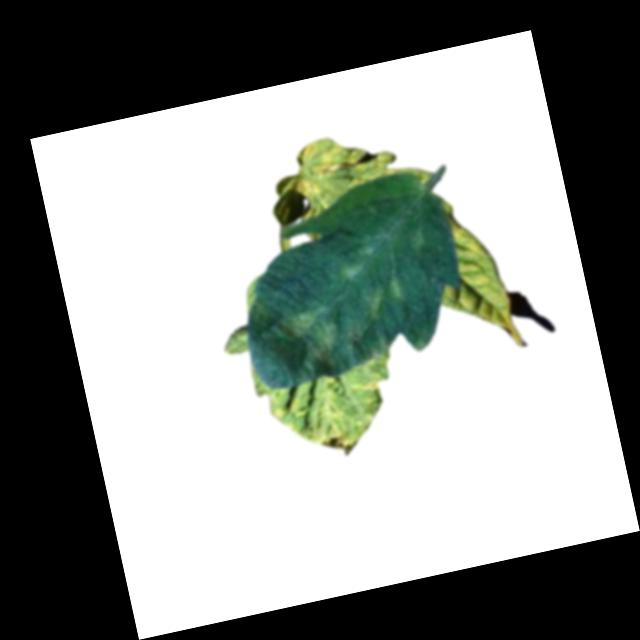Leaf_Mold: (423, 209, 517, 356), (267, 377, 394, 464), (278, 131, 365, 202), (264, 303, 345, 374)
